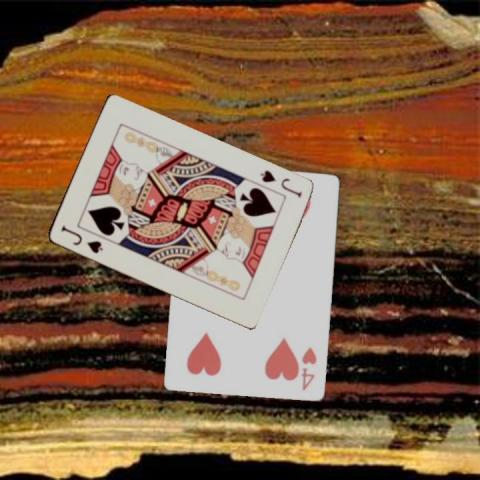4h: (299, 344, 319, 393)
Js: (57, 223, 104, 255), (257, 168, 303, 199)
